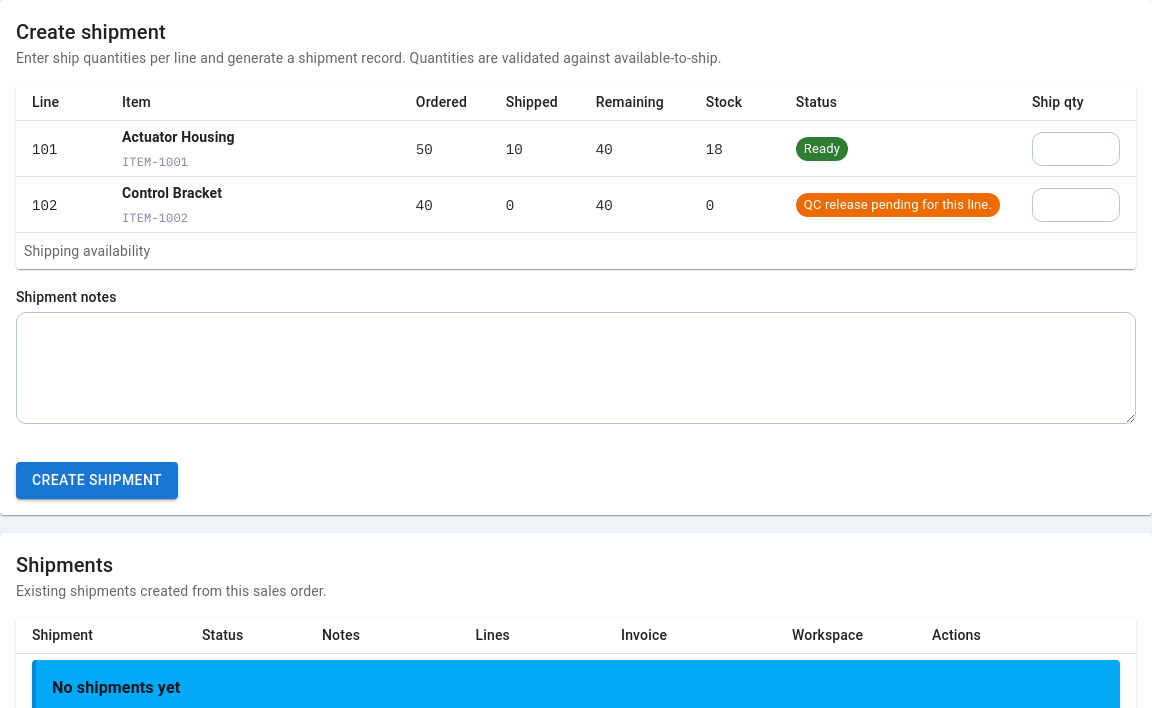
Test case: ShipmentCreationPanel › submits a valid shipment payload and shows success feedback
In the number field named "Ship quantity for line 101": (1076, 149) [1032,132,1120,166], type "12"
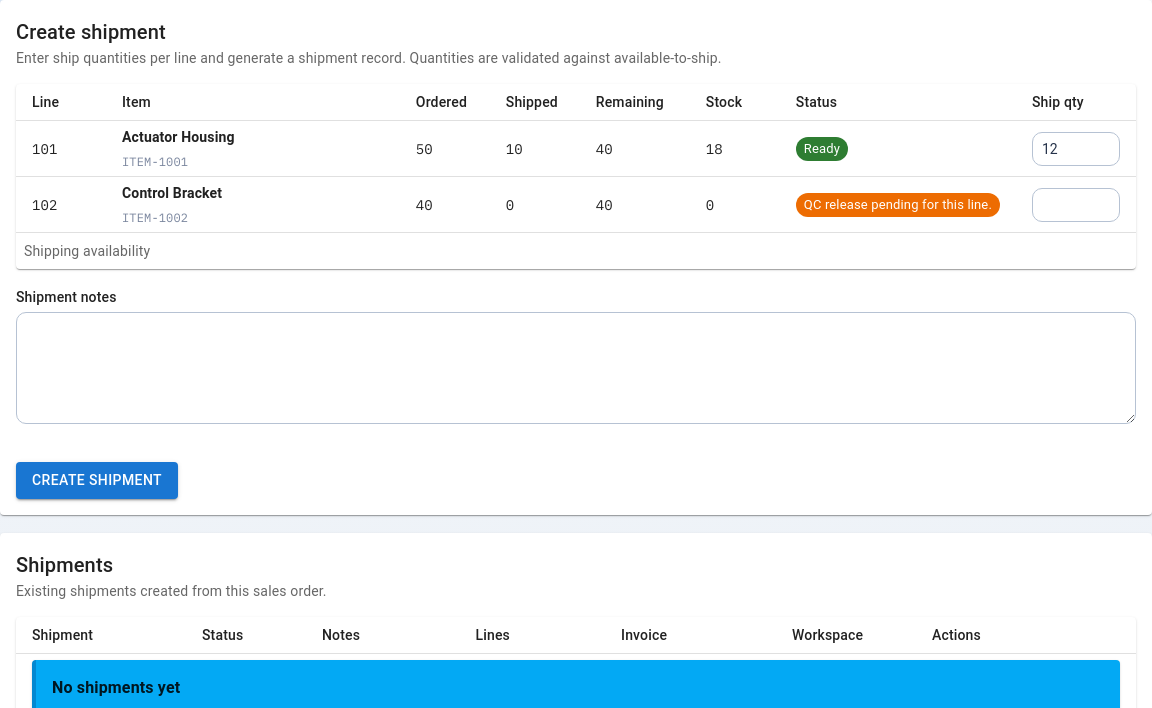
In the text box labelled "Shipment notes": (576, 368) [16,312,1136,424], type "Second partial shipment"
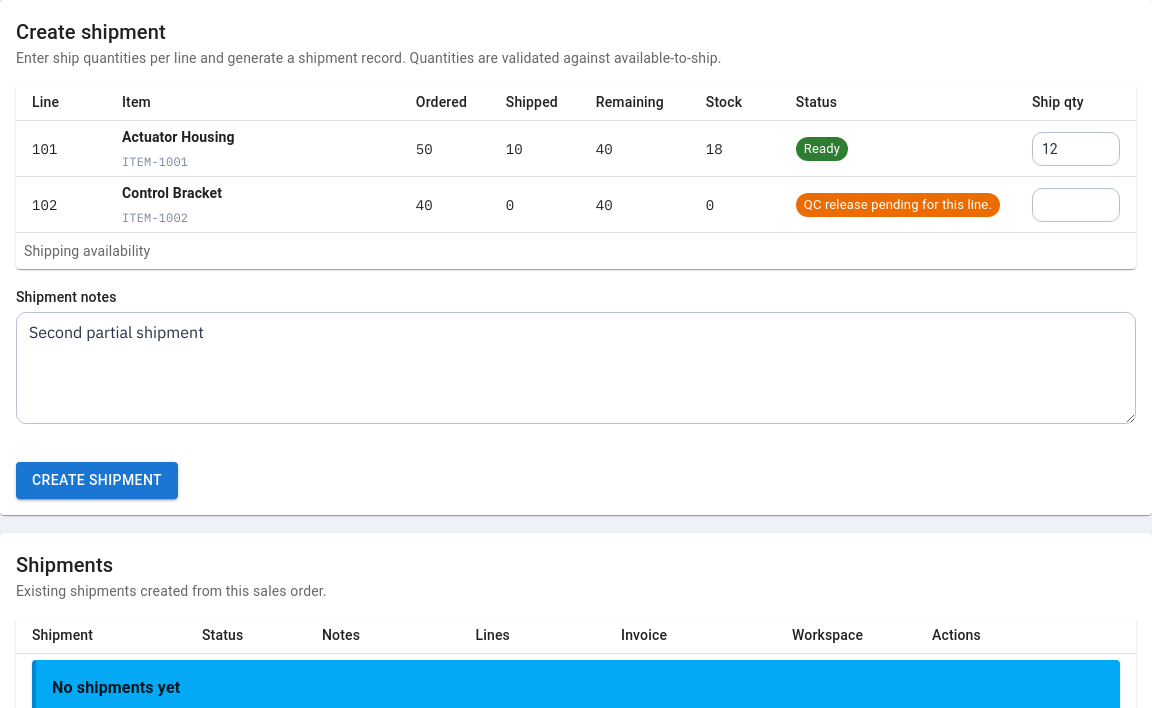
Click the button "Create shipment": (97, 481) [16,462,178,499]
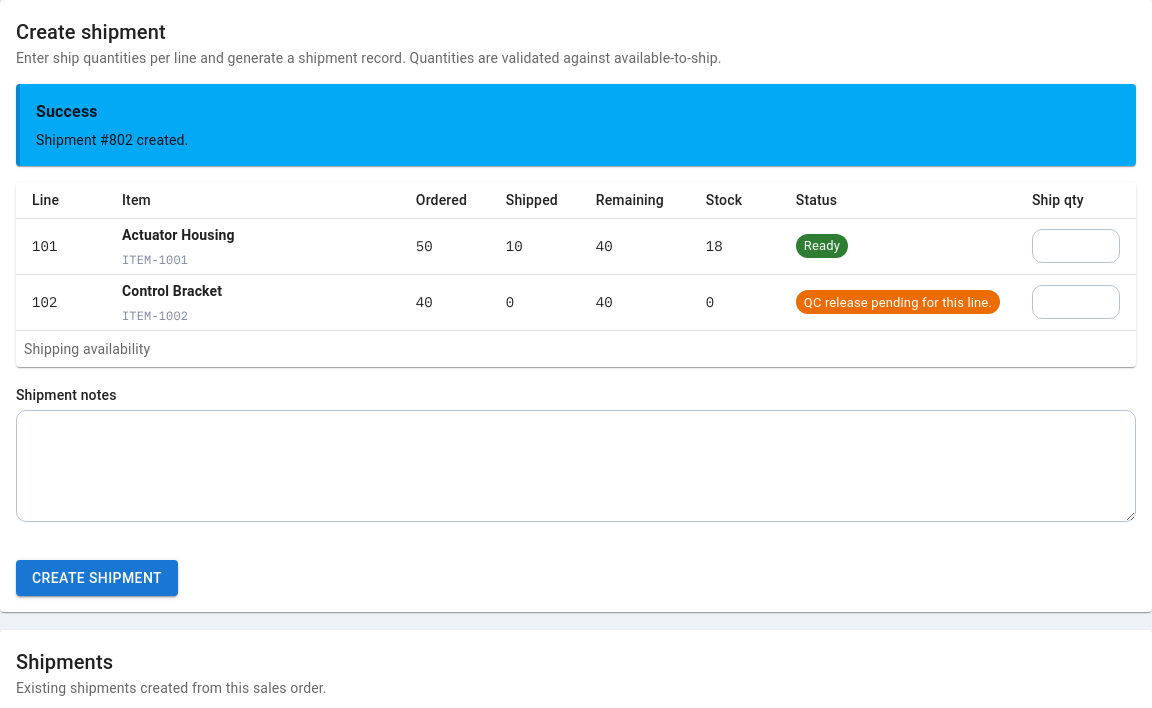
Expected: the text "Shipment #802 created." is shown, [36,132,188,148]
